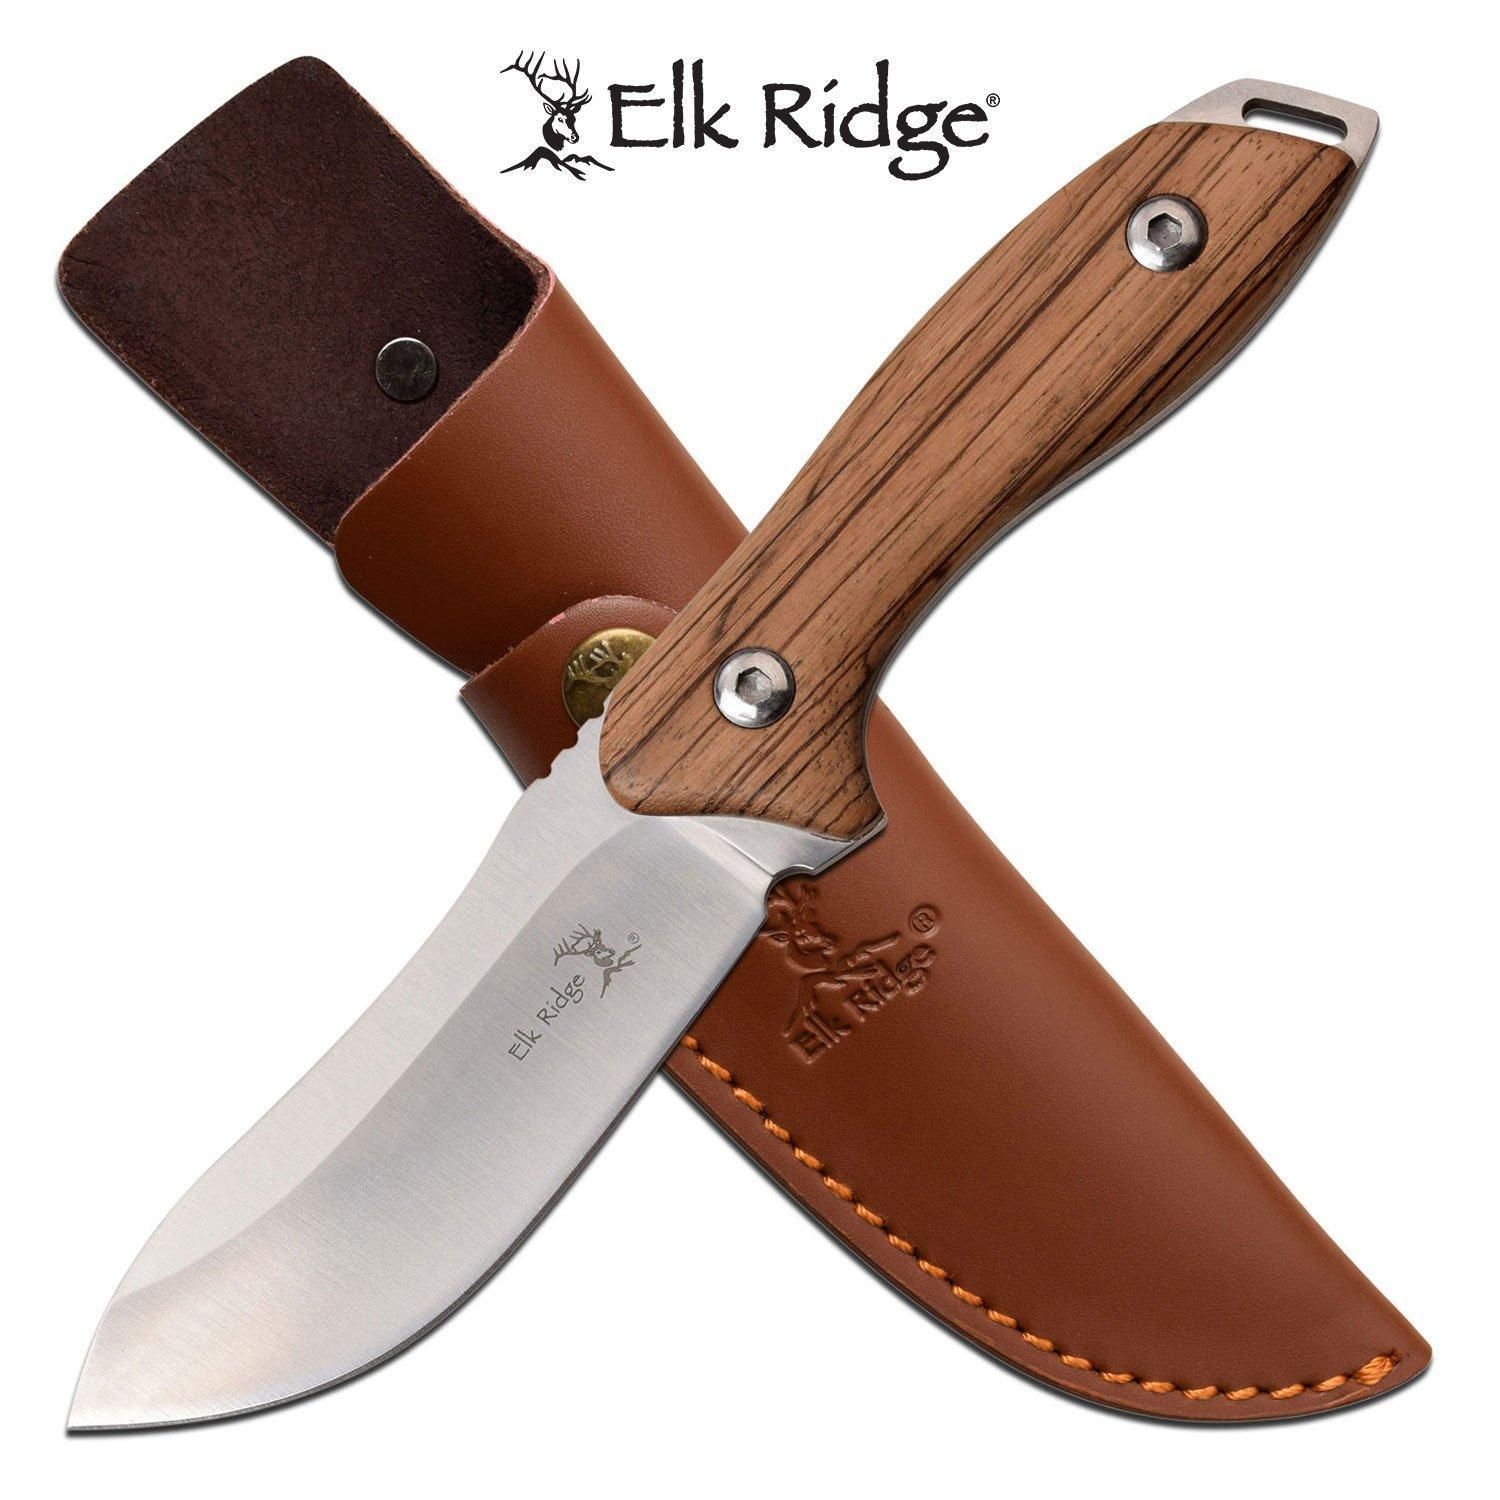facao: (40, 58, 1463, 1493)
